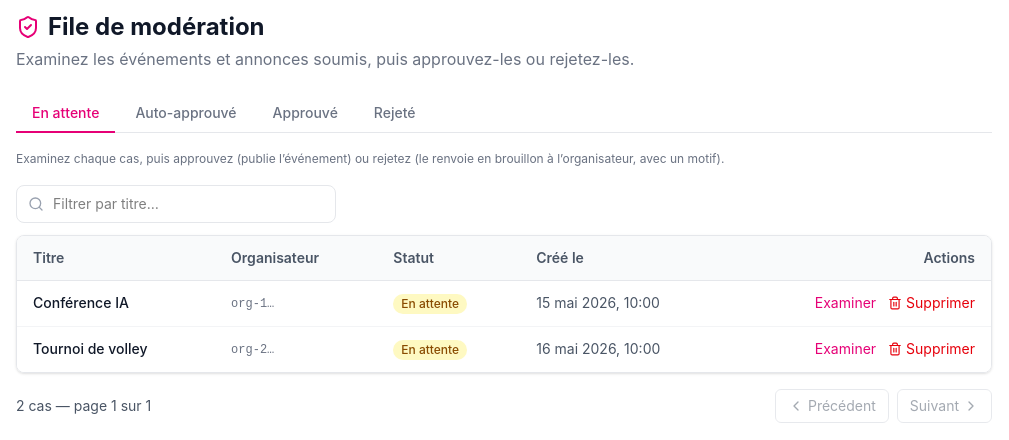
Test: AdminModerationPage › filters the visible cases by title
Expected: the link "Conférence IA" is shown, x1=33 y1=294 x2=129 y2=311
Type "volley" into the field with placeholder "Filtrer par titre…" at (176, 204), box x1=16 y1=184 x2=336 y2=222
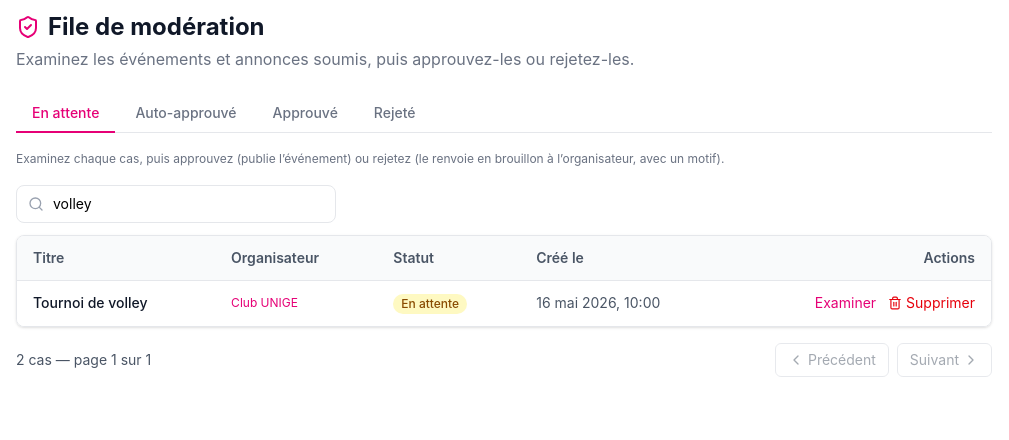
Expected: the link "Tournoi de volley" is shown, x1=33 y1=294 x2=148 y2=311
Expected: the link "Conférence IA" is gone
